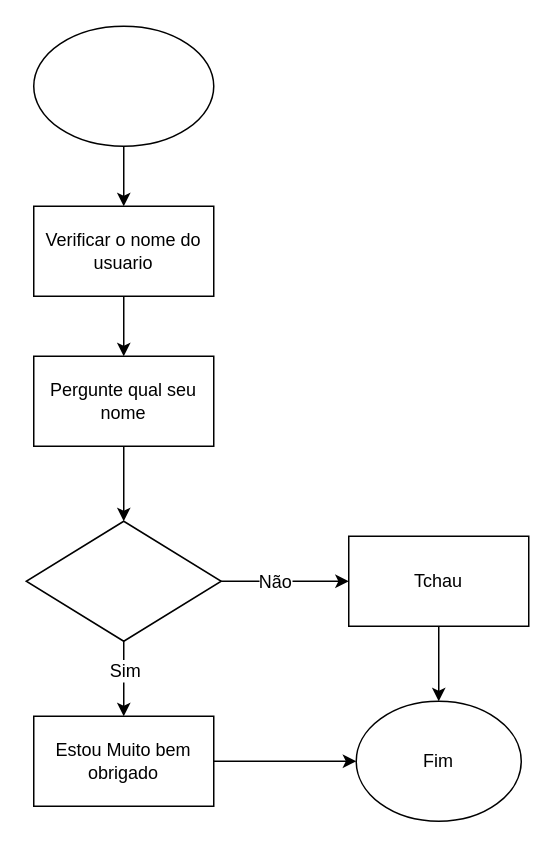
Image size: 555x848. Some labels were removed from this diagram. The box of each missing label's shape, as (x1, y1, x2, y2) in pixels:
Inicio: (32, 25, 214, 146)
Olá, (nome) tudo bem?: (25, 520, 221, 641)
